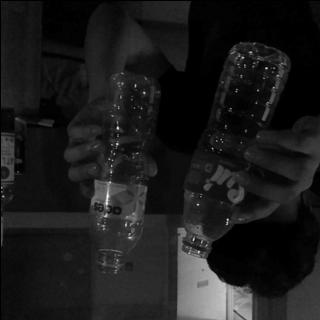plastic_bottles: (180, 44, 288, 256), (89, 76, 160, 276)
